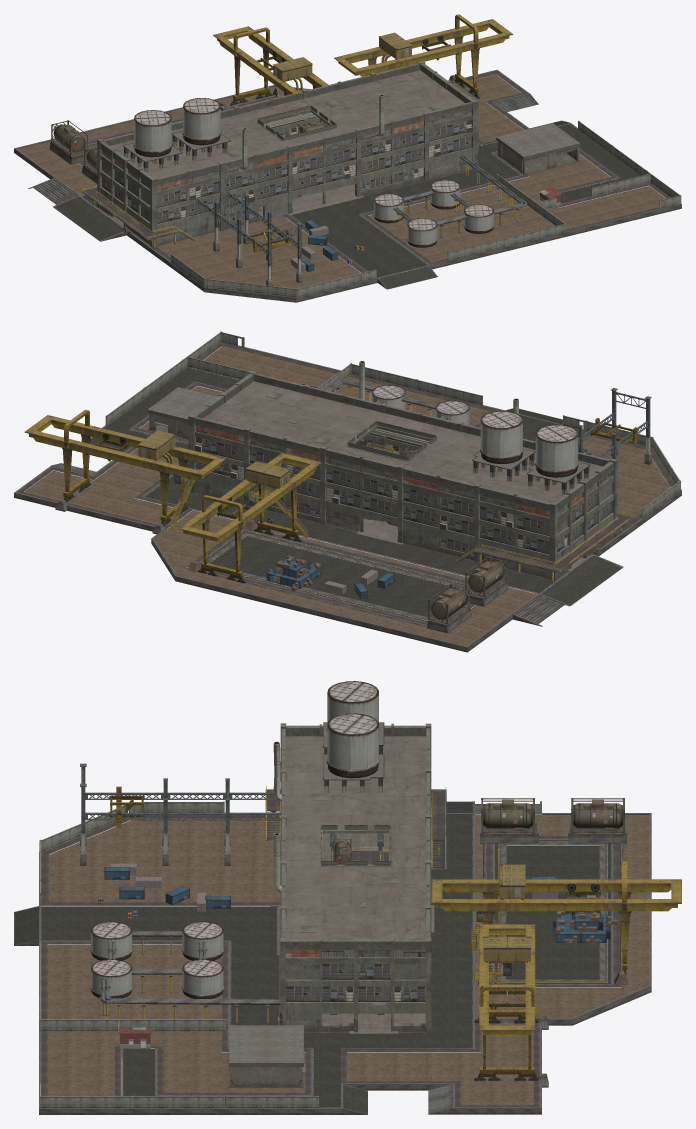
3 renders of one model, top to bottom at view 1: azimuth 30°, elevation 25°; view 2: azimuth 150°, elevation 25°; view 3: azimuth 270°, elevation 25°, orthographic. The views are drawn at different scales.
Visible parts, largest first — view 1: factory0_10, factory floor3.001_36, factory floor2_35, factory floor_6, factory2_12, yellow crane.001_34, yellow crane_27, oil tank1_14, M_Warehouse_LOD0_51, factory1_11, pillars0_17, oil tank2_15 (+11 smaller); view 2: factory0_10, factory floor3.001_36, factory floor2_35, factory floor_6, factory2_12, yellow crane.001_34, yellow crane_27, factory1_11, oil tank3_16, oil tank2_15, M_Warehouse_LOD0_51, Factory stairs3_9 (+12 smaller); view 3: factory floor3.001_36, factory0_10, factory floor2_35, factory floor_6, yellow crane_27, yellow crane.001_34, oil tank1_14, M_Warehouse_LOD0_51, factory2_12, pillars0_17, oil tank2_15, oil tank.001_28 (+20 smaller).
Boxes of the visible parts, box(x1,y1,x2,y2) form: factory0_10: box(97, 61, 478, 247); factory floor3.001_36: box(17, 74, 665, 288); factory floor2_35: box(53, 121, 639, 288); factory floor_6: box(14, 69, 681, 302); factory2_12: box(102, 105, 471, 223); yellow crane.001_34: box(334, 14, 513, 98); yellow crane_27: box(213, 26, 328, 105); oil tank1_14: box(373, 180, 494, 247); M_Warehouse_LOD0_51: box(496, 123, 580, 175); factory1_11: box(102, 94, 472, 202); pillars0_17: box(196, 190, 302, 279); oil tank2_15: box(182, 98, 221, 145); factory0_10: box(188, 371, 617, 583); factory floor3.001_36: box(24, 346, 670, 646); factory floor2_35: box(90, 367, 622, 621); factory floor_6: box(14, 342, 681, 652); factory2_12: box(196, 421, 611, 563); yellow crane.001_34: box(24, 409, 225, 530); yellow crane_27: box(178, 453, 321, 583); factory1_11: box(195, 361, 611, 531); oil tank3_16: box(535, 424, 578, 477); oil tank2_15: box(480, 411, 523, 463); M_Warehouse_LOD0_51: box(147, 387, 217, 439); Factory stairs3_9: box(525, 511, 634, 583); factory floor3.001_36: box(47, 815, 649, 1105); factory0_10: box(270, 723, 434, 1033); factory floor2_35: box(14, 801, 611, 1113); factory floor_6: box(14, 801, 651, 1114); yellow crane_27: box(431, 861, 681, 975); yellow crane.001_34: box(474, 924, 540, 1080); oil tank1_14: box(90, 921, 224, 998); M_Warehouse_LOD0_51: box(229, 1025, 305, 1087); factory2_12: box(286, 825, 425, 1001); pillars0_17: box(80, 763, 281, 852); oil tank2_15: box(326, 713, 379, 778); oil tank.001_28: box(571, 798, 624, 833).
Size of what is drawn, in the model's own units: 149 by 32.74 by 135.
Materials: 19 (19 with a texture image).
